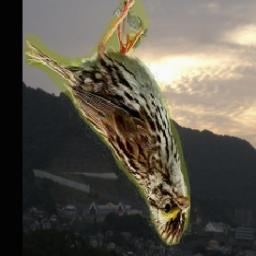Sparrow: (23, 0, 190, 252)
